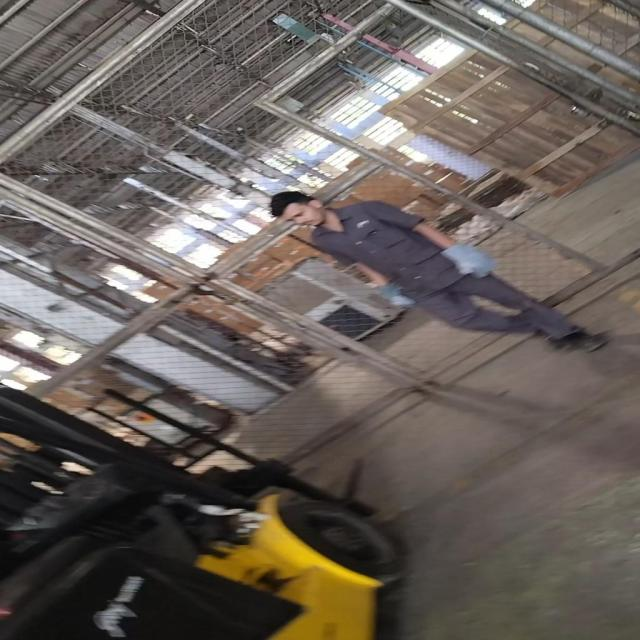Gloves-Detection: (434, 236, 486, 276), (371, 276, 408, 311)
